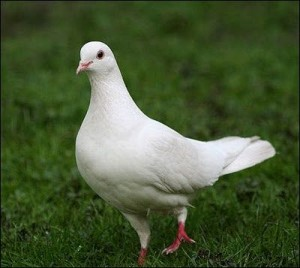pigeon: (71, 39, 279, 263)
